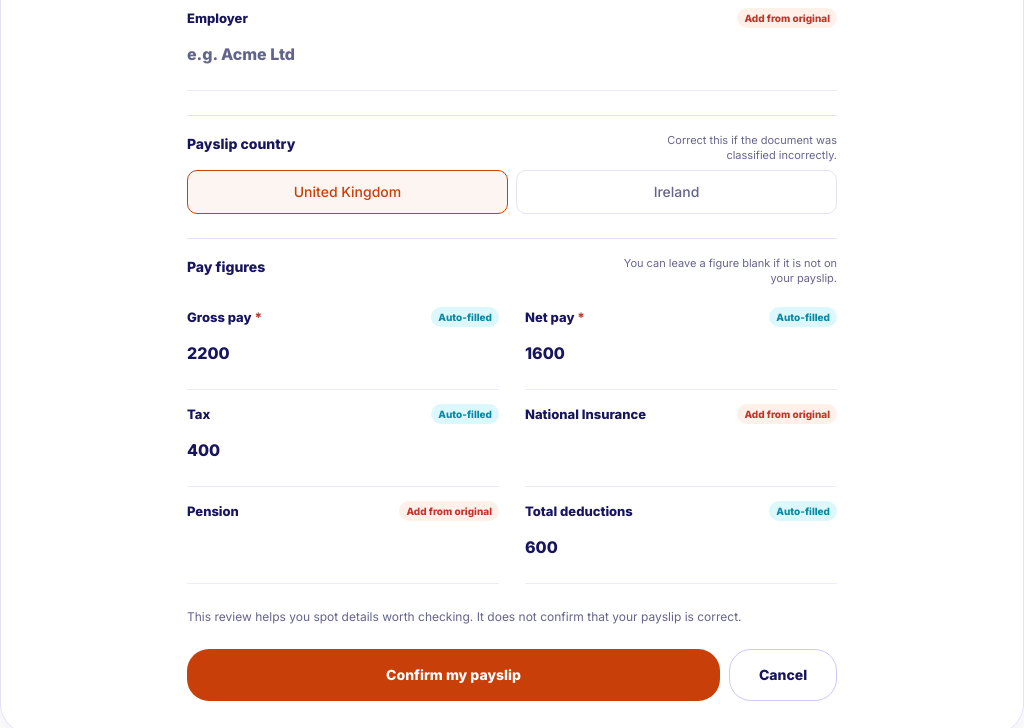
PayslipUpload processing failure › requires detailed payslip values to be checked before they can join confirmed history
(page scrolled)
Step 1. Click the button "Confirm my payslip" → (454,675), box x1=187 y1=649 x2=720 y2=701
(page scrolled)
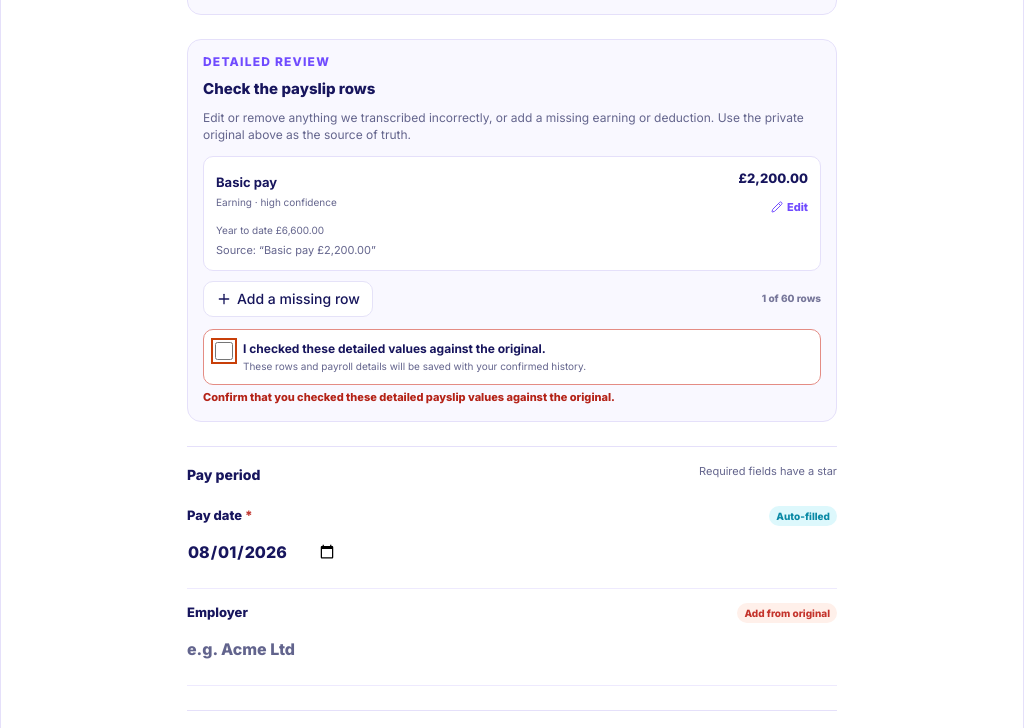
Expected: the text "Confirm that you checked these detailed payslip values against the original." is shown, x1=203 y1=390 x2=615 y2=404
